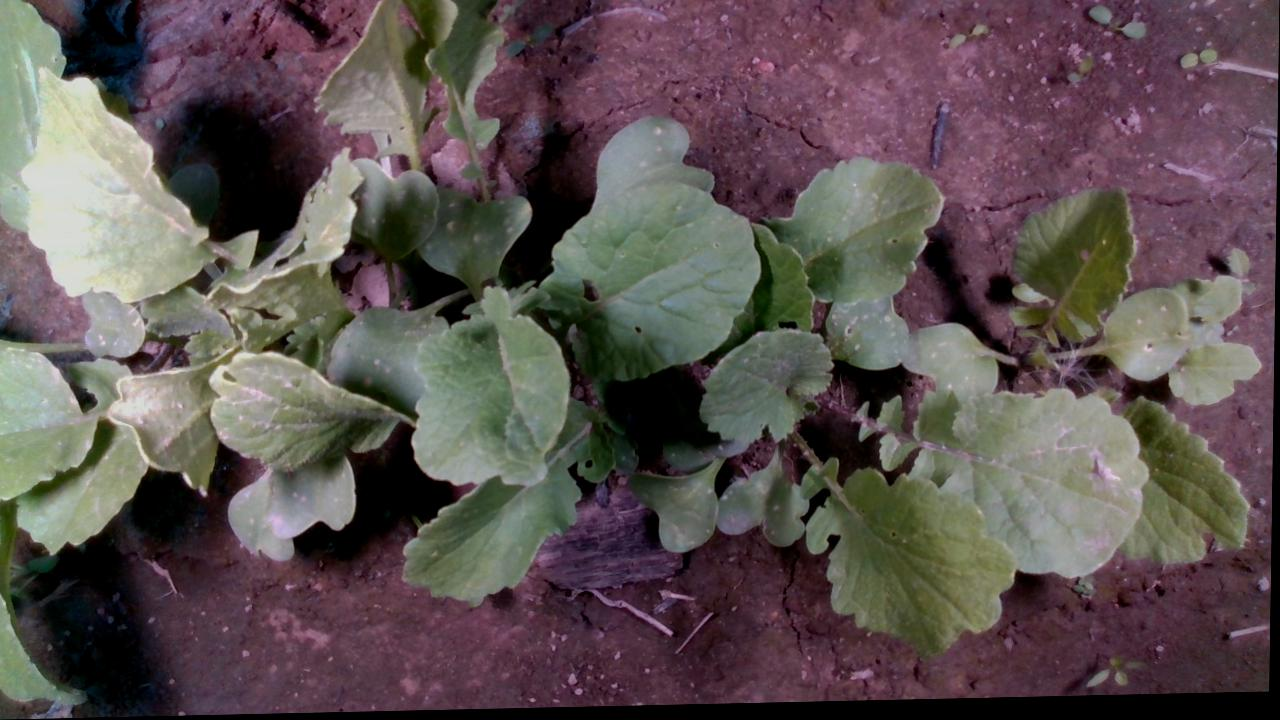weed: (1087, 8, 1149, 43), (1086, 659, 1149, 692), (945, 26, 988, 53), (1065, 56, 1096, 91), (1178, 53, 1219, 73)
